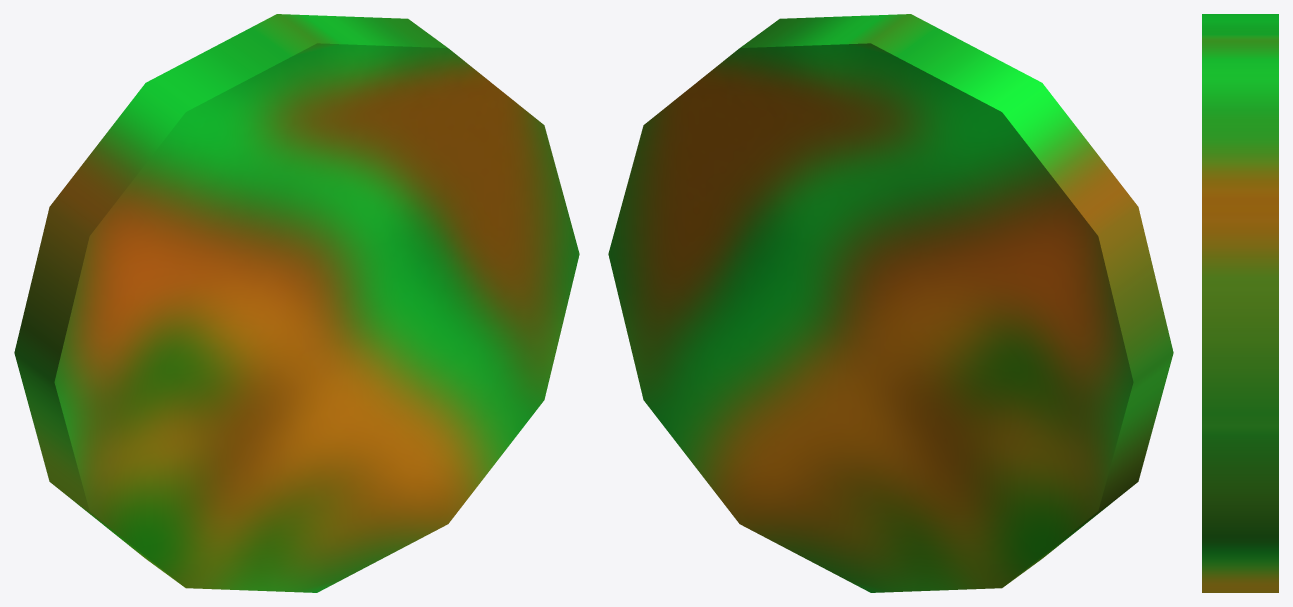
The model's file is objs.obj.
3 renders of one model, left to right at view 1: azimuth 30°, elevation 25°; view 2: azimuth 150°, elevation 25°; view 3: azimuth 270°, elevation 25°, orthographic. The views are drawn at different scales.
Visible parts, largest first — view 1: Tank; view 2: Tank; view 3: Tank.
Part boxes in pixels (<box>): Tank: <box>14,14,579,592</box>; Tank: <box>608,14,1173,592</box>; Tank: <box>1202,14,1278,592</box>.
Bounding box in the file's own units: 41.34 × 41.34 × 5.47.
